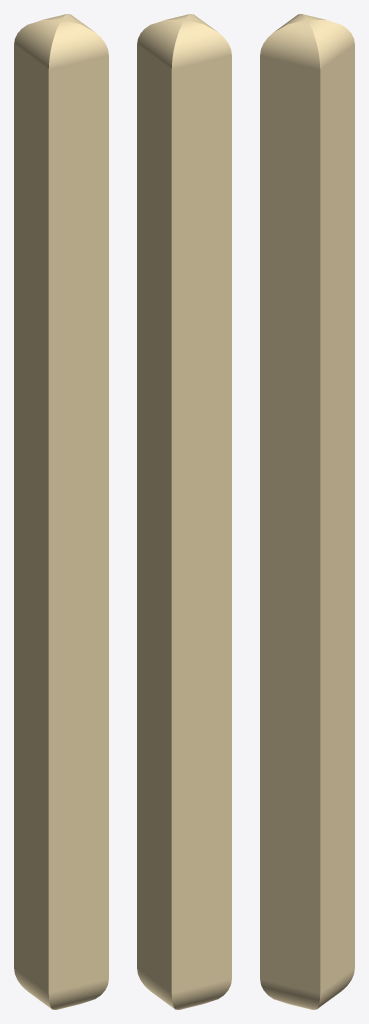
File: PCA9685_v18_43.gltf
The picture shows the model from 3 angles, left to right: view 1: azimuth 30°, elevation 25°; view 2: azimuth 210°, elevation 25°; view 3: azimuth 330°, elevation 25°; orthographic projection.
Visible parts, largest first — view 1: mesh4905, mesh4906, mesh4904, mesh4903, mesh4911, mesh4907; view 2: mesh4898, mesh4899, mesh4902, mesh4900, mesh4909, mesh4910; view 3: mesh4905, mesh4899, mesh4904, mesh4900, mesh4911, mesh4910.
Part boxes in pixels (left/top/right/bottom): mesh4905: left=48, top=55, right=108, bottom=993; mesh4906: left=14, top=45, right=48, bottom=992; mesh4904: left=48, top=20, right=108, bottom=69; mesh4903: left=14, top=19, right=60, bottom=69; mesh4911: left=48, top=979, right=108, bottom=1009; mesh4907: left=14, top=968, right=51, bottom=1008; mesh4898: left=171, top=55, right=231, bottom=993; mesh4899: left=137, top=45, right=171, bottom=992; mesh4902: left=171, top=20, right=231, bottom=69; mesh4900: left=137, top=19, right=183, bottom=69; mesh4909: left=171, top=979, right=231, bottom=1009; mesh4910: left=137, top=968, right=174, bottom=1008; mesh4905: left=260, top=55, right=320, bottom=993; mesh4899: left=320, top=45, right=354, bottom=992; mesh4904: left=260, top=20, right=320, bottom=69; mesh4900: left=308, top=19, right=354, bottom=69; mesh4911: left=260, top=979, right=320, bottom=1009; mesh4910: left=317, top=968, right=354, bottom=1008.
Bounding box in the file's own units: 0.00063 × 0.00985 × 0.00063.
